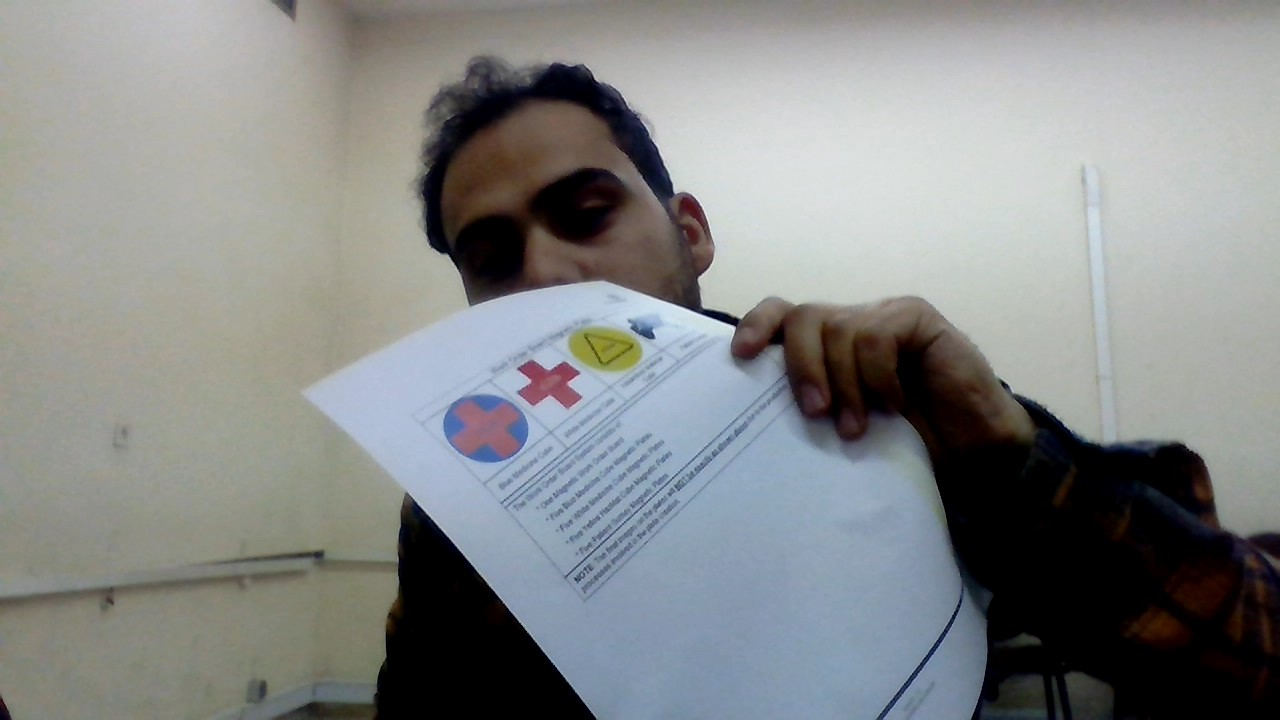bmc: (444, 395, 529, 464)
hmc: (567, 326, 642, 375)
pg: (620, 313, 663, 338)
wmc: (512, 355, 587, 413)
